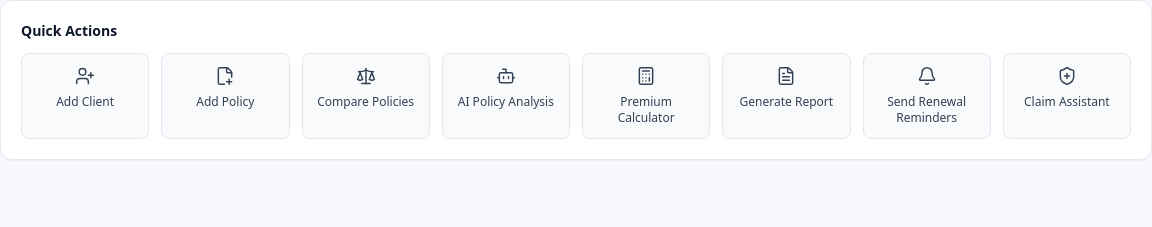
QuickActionsBar › blocks Send Renewal Reminders when none are due (R14.4)
Click the button "Send Renewal Reminders". click: (927, 96)
box: [862,53,991,139]
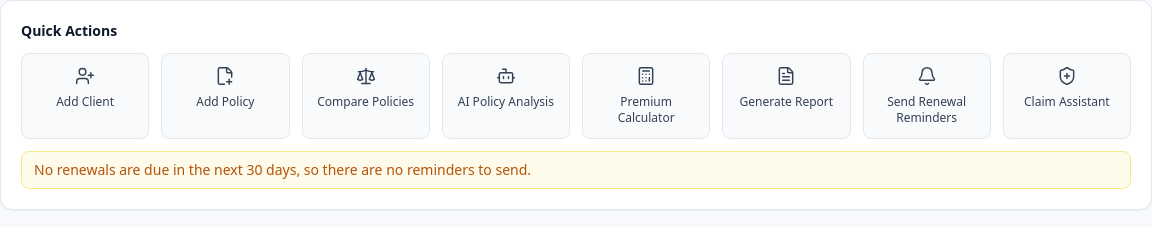
Expected: the message shows "No renewals are due", [34,160,531,179]
